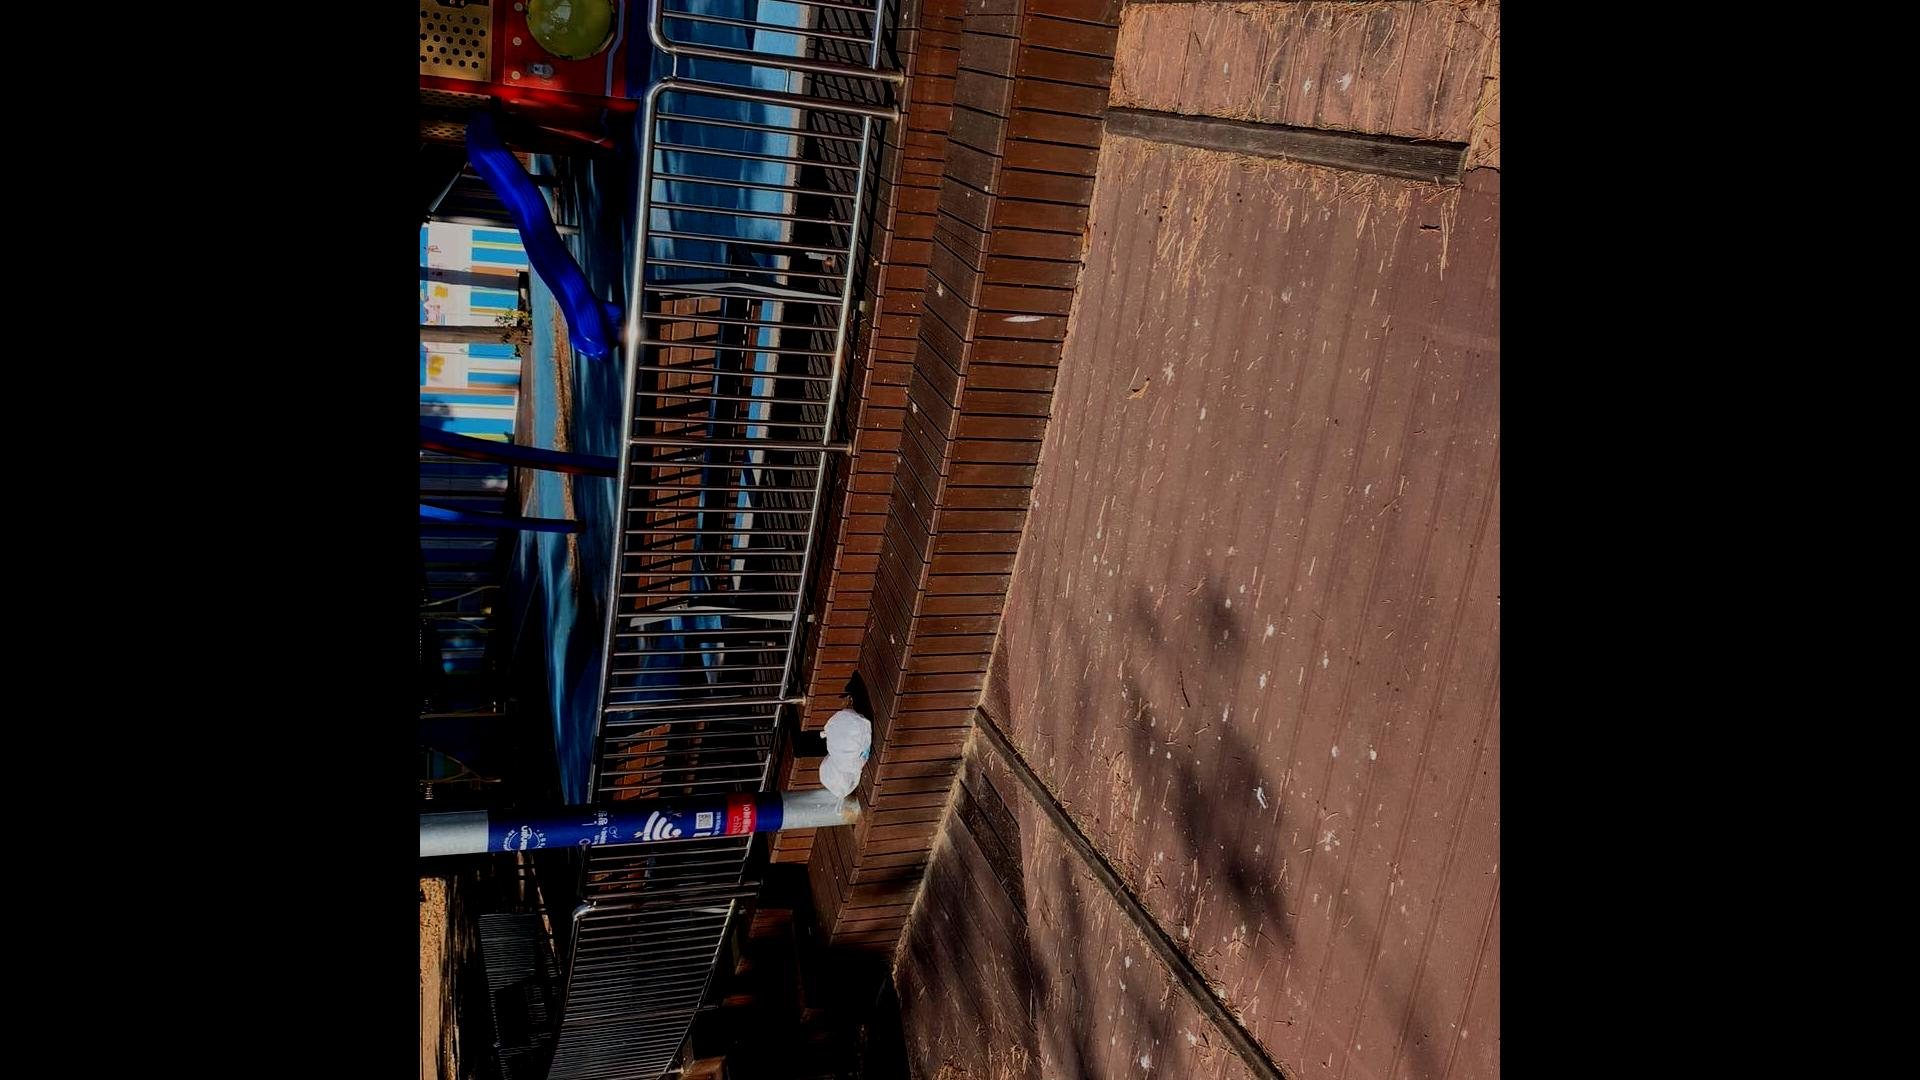white_bag: (814, 707, 874, 769), (816, 749, 864, 814)
